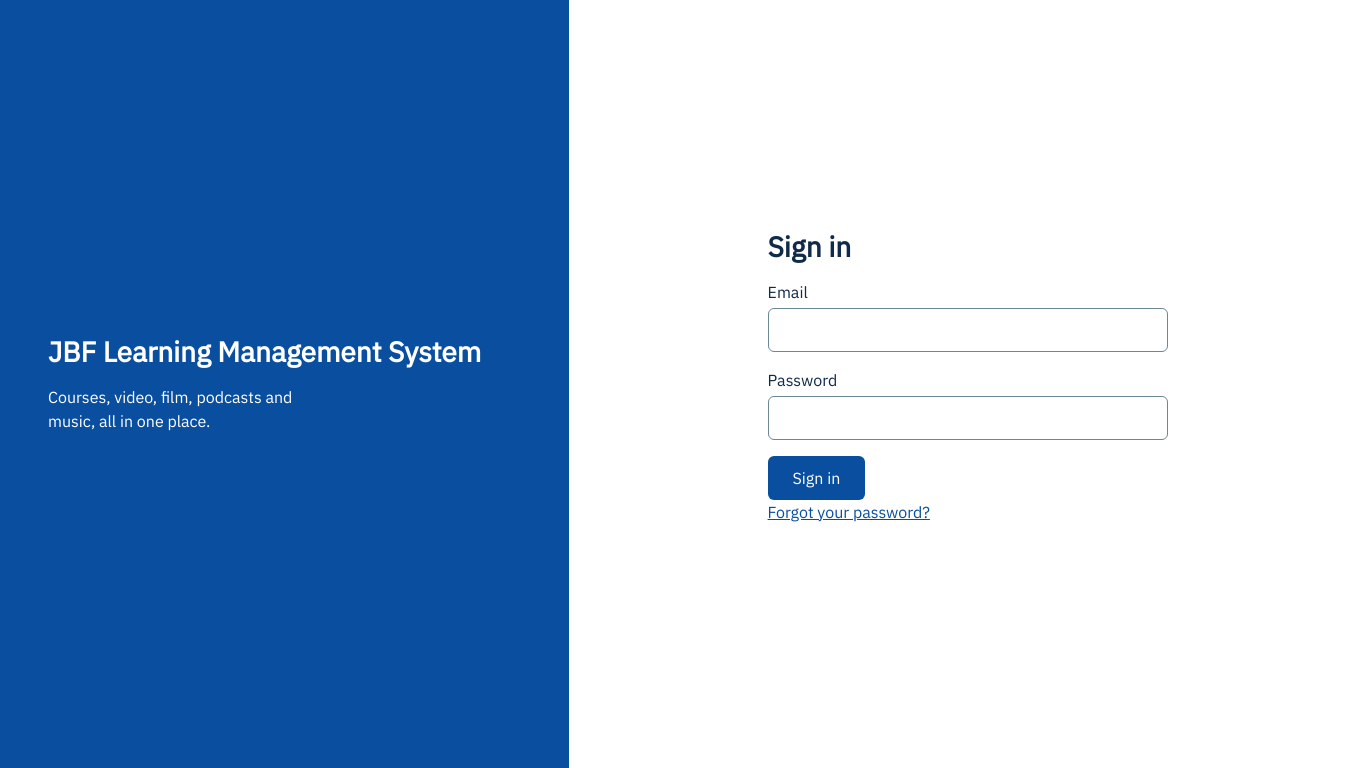
Test: LoginPage › shows the server message when the credentials are wrong
This screenshot has width=1366, height=768.
Type "a@example.com" into the field labelled "Email" at (968, 330), box [768,308,1168,352]
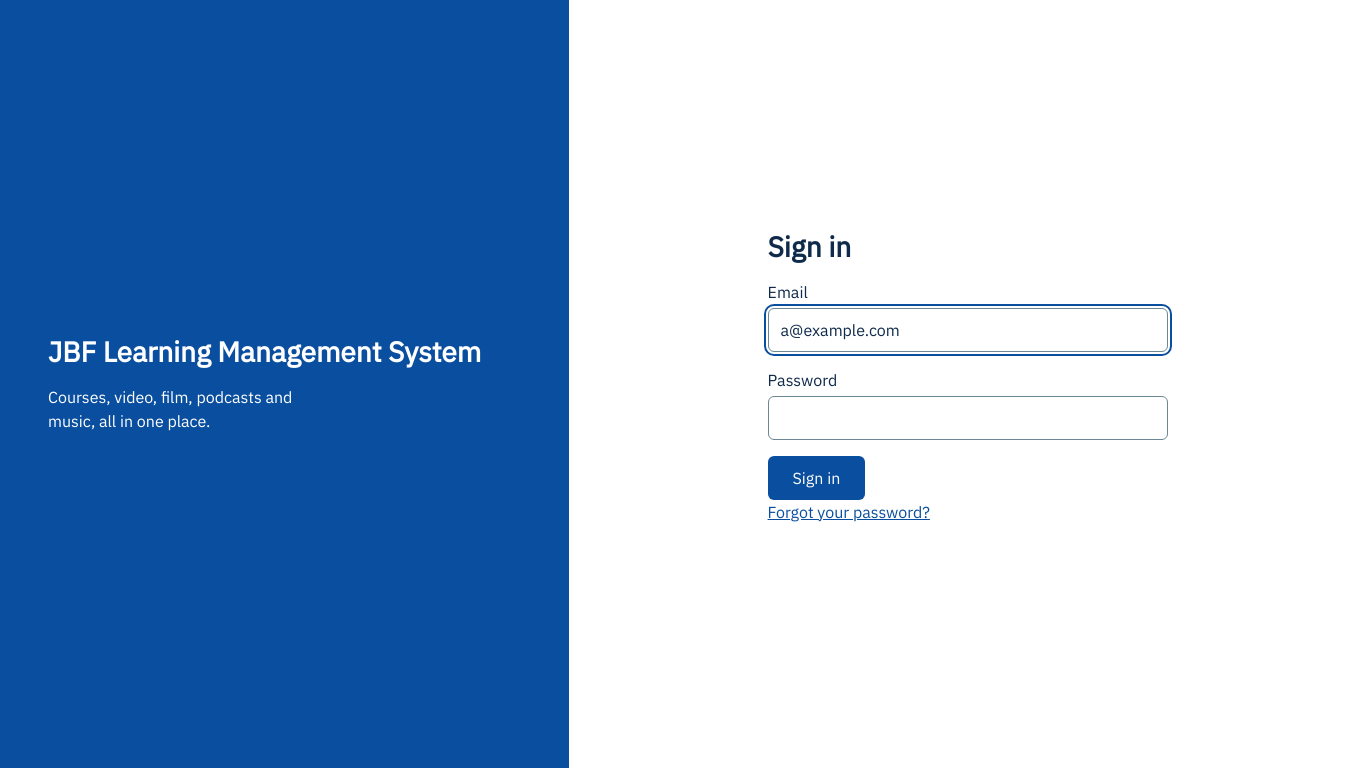
Type "wrong password" into the password field labelled "Password" at (968, 418), box [768,396,1168,440]
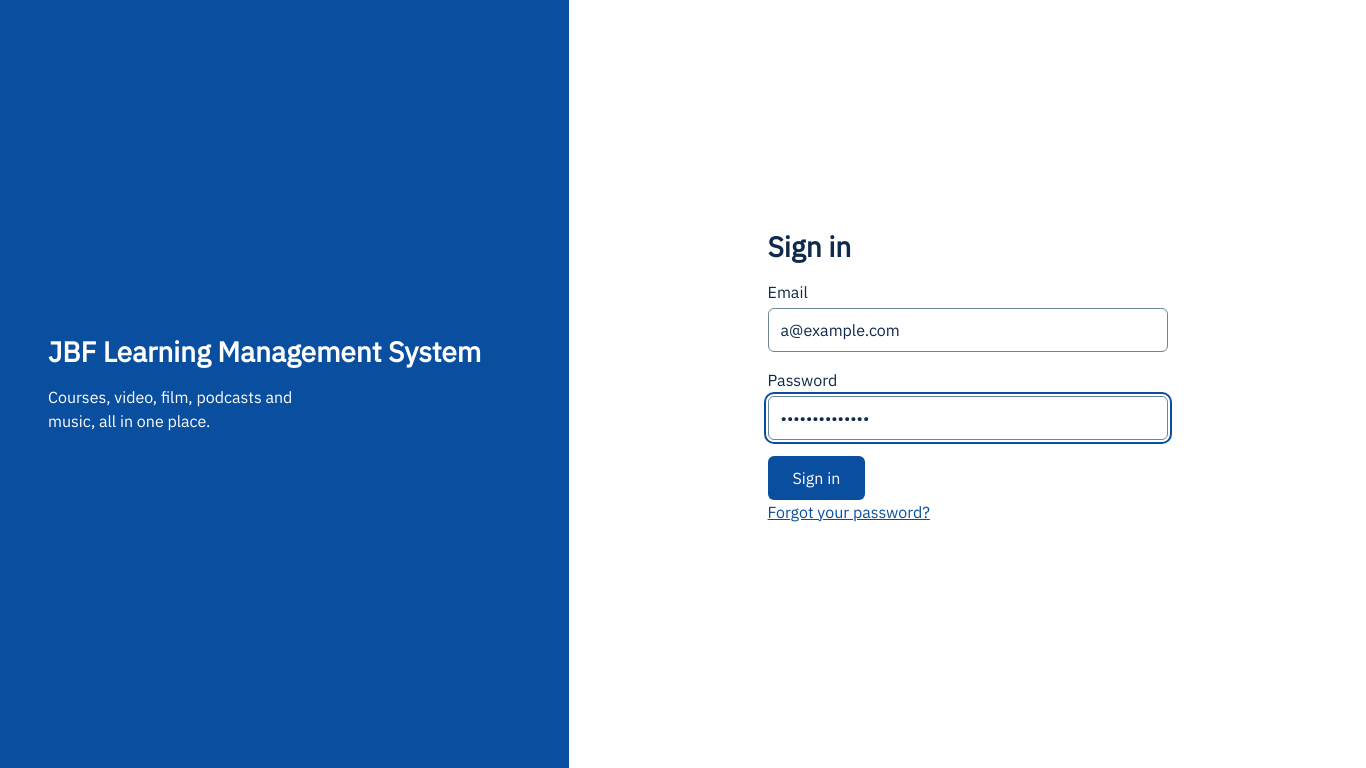
Click the button "Sign in" at (816, 478), box [768,456,865,500]
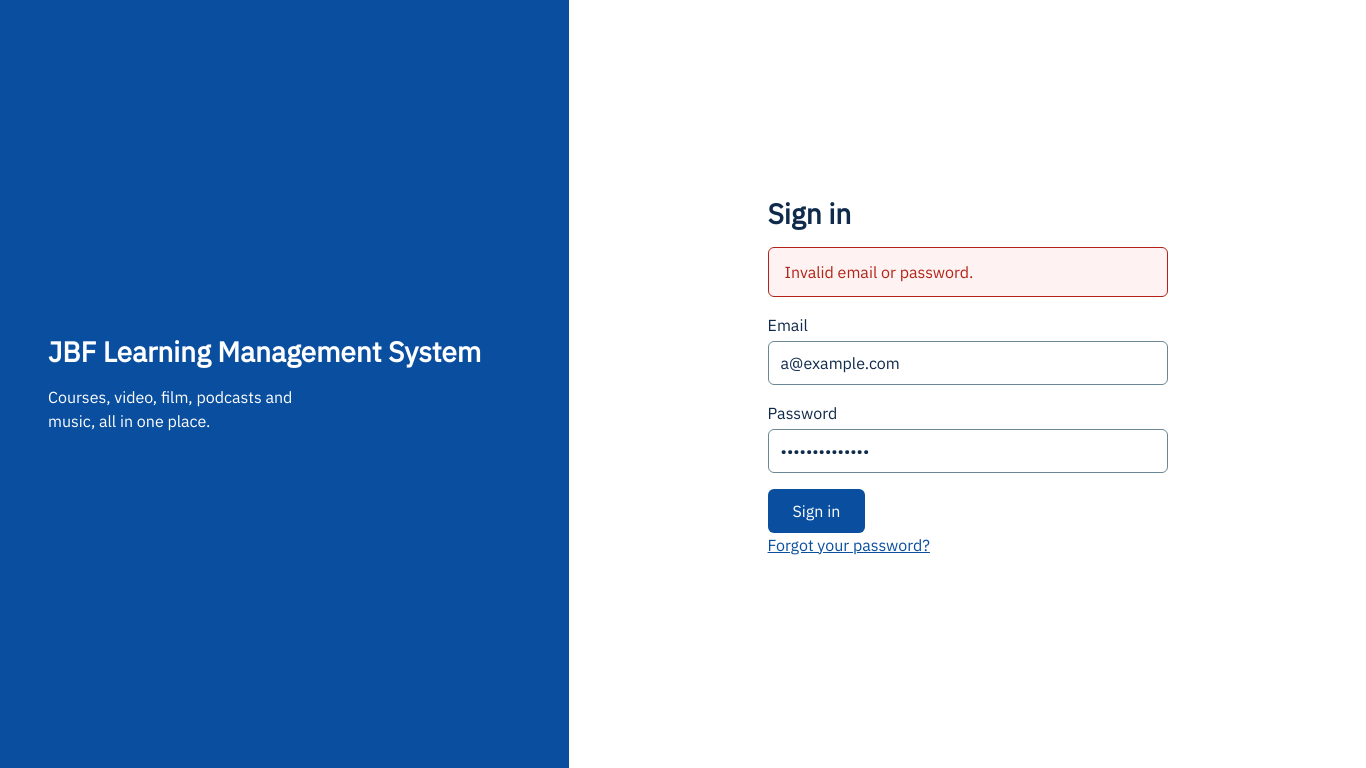
Now the message reads "Invalid email or password.", box [785,262,973,282]
